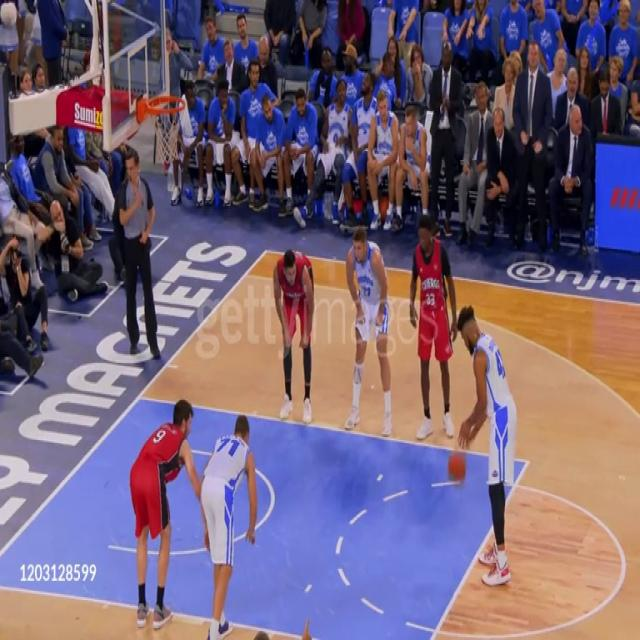ball: (447, 453, 465, 486)
